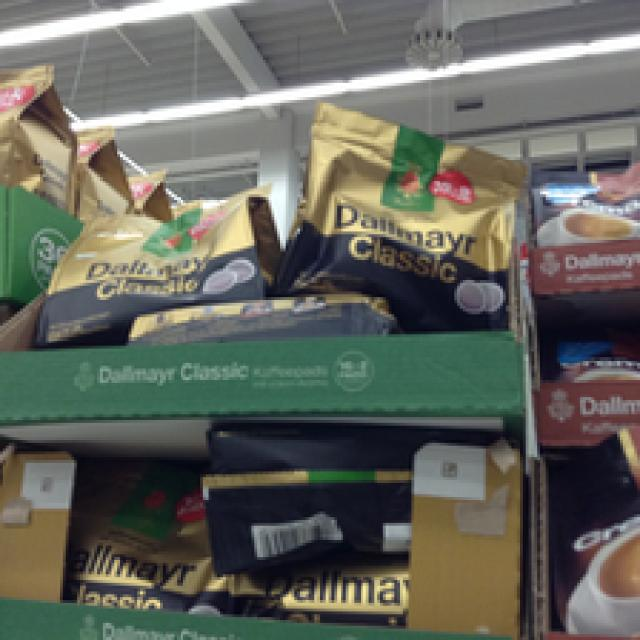groceries: (280, 106, 511, 317), (28, 200, 272, 329), (534, 163, 634, 291)
